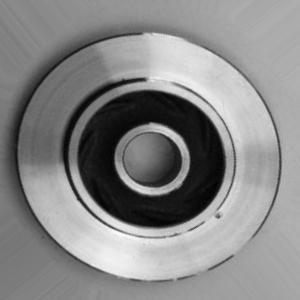defect: (197, 202, 233, 236)
